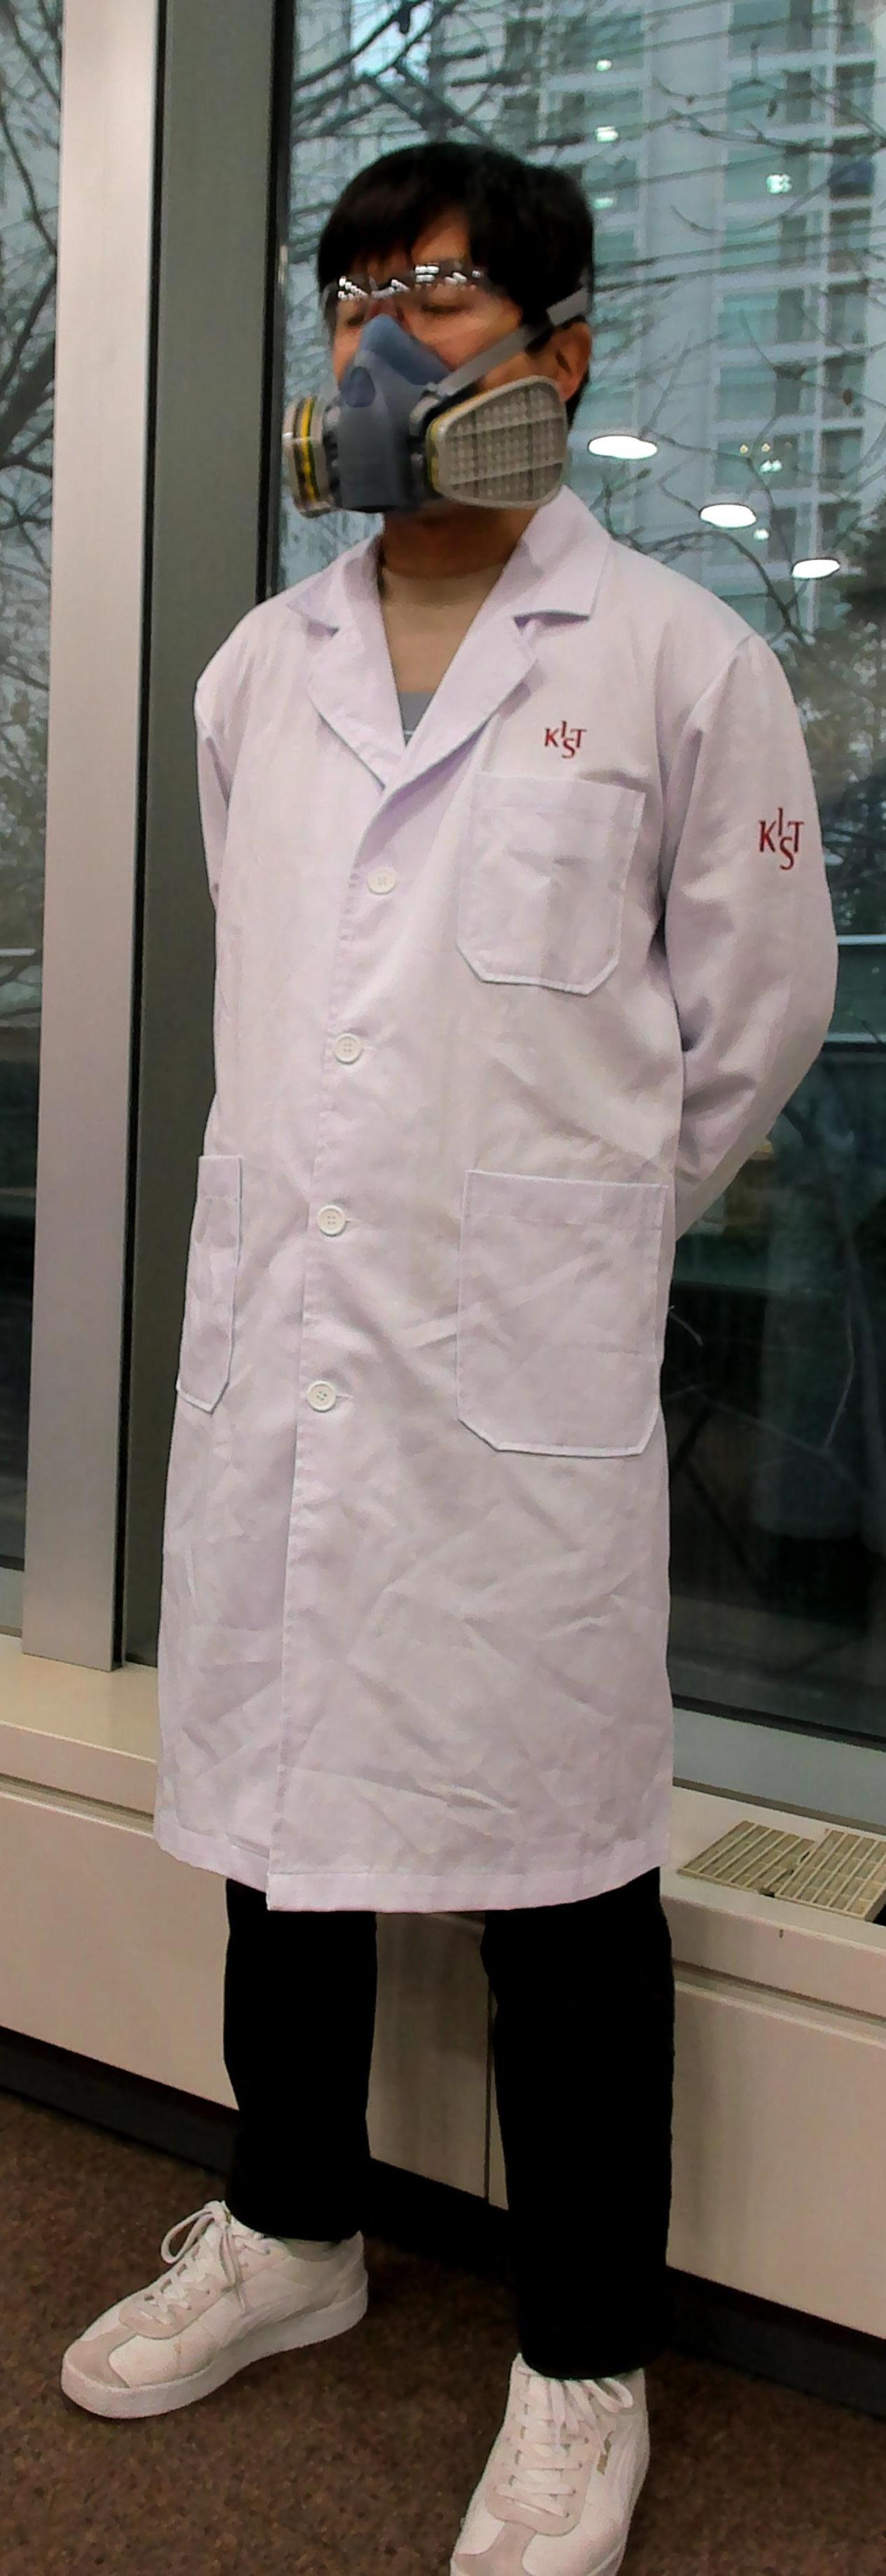lab_coat: (148, 590, 807, 1934)
